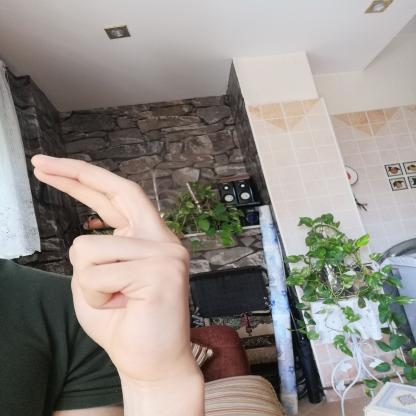ZAY: (18, 146, 203, 379)
